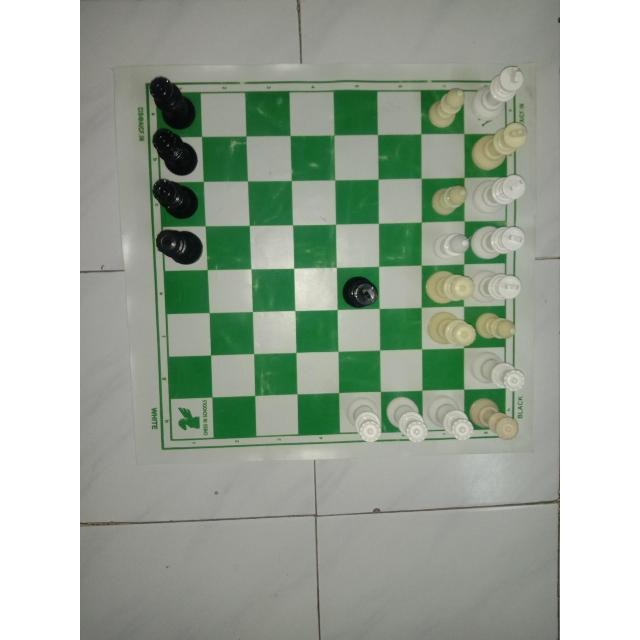black-king: (339, 272, 382, 312)
black-queen: (144, 126, 205, 180), (144, 74, 200, 131), (146, 176, 204, 222), (150, 225, 208, 267)
white-bishop: (424, 87, 466, 131), (426, 182, 468, 224), (472, 311, 518, 349), (427, 231, 473, 267)
white-king: (469, 64, 525, 122), (468, 122, 529, 174), (471, 169, 530, 218), (470, 218, 526, 265), (467, 269, 525, 305)
white-queen: (466, 396, 524, 446), (465, 350, 529, 394), (424, 392, 477, 444), (383, 391, 431, 446), (422, 307, 479, 349), (421, 267, 481, 306), (342, 394, 384, 445)
